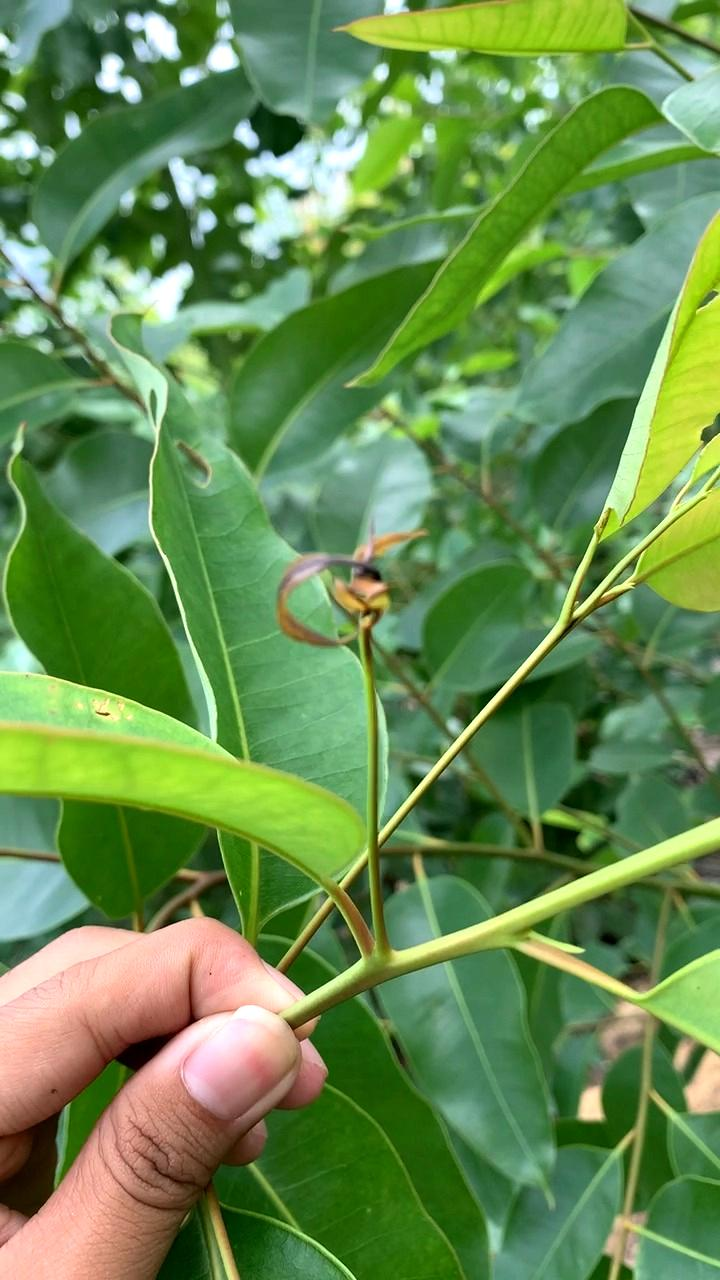Helopeltis-Withered Sprout: (263, 518, 439, 653)
